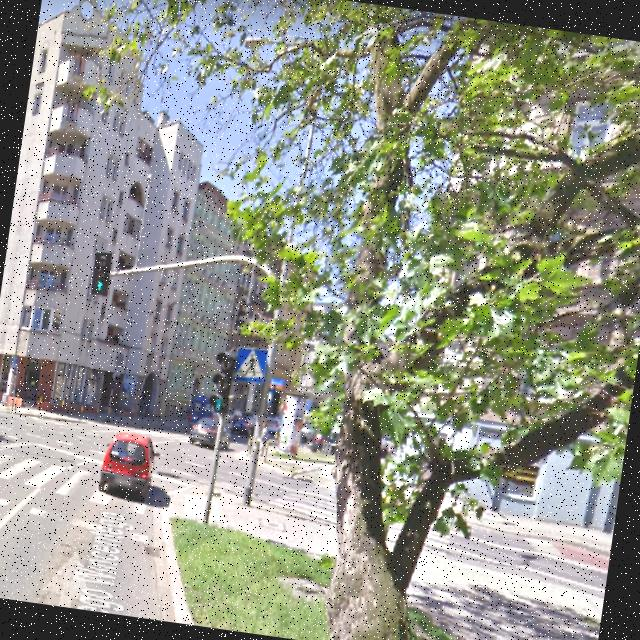Przejscie dla pieszych: (232, 346, 268, 384), (10, 354, 18, 368)
